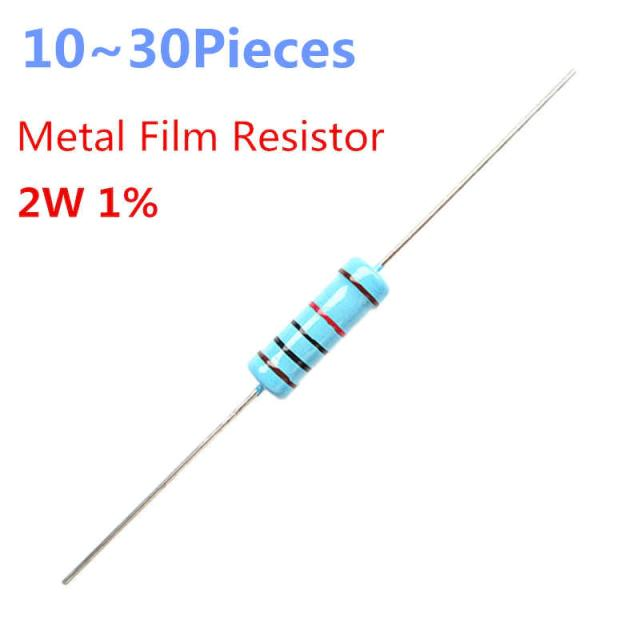Resistor: (248, 258, 388, 398)
